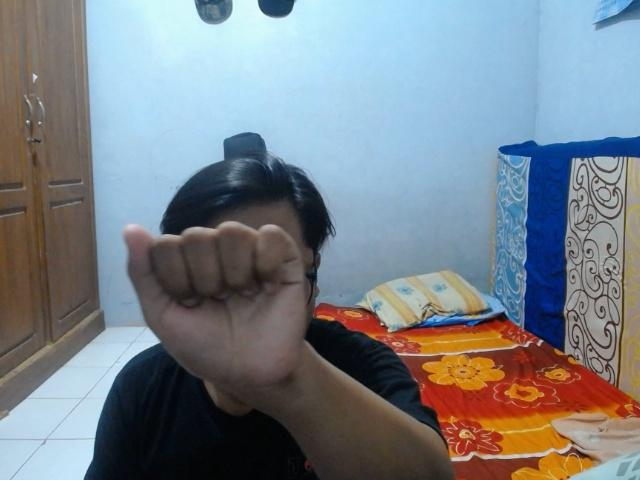Grab: (118, 218, 314, 398)
